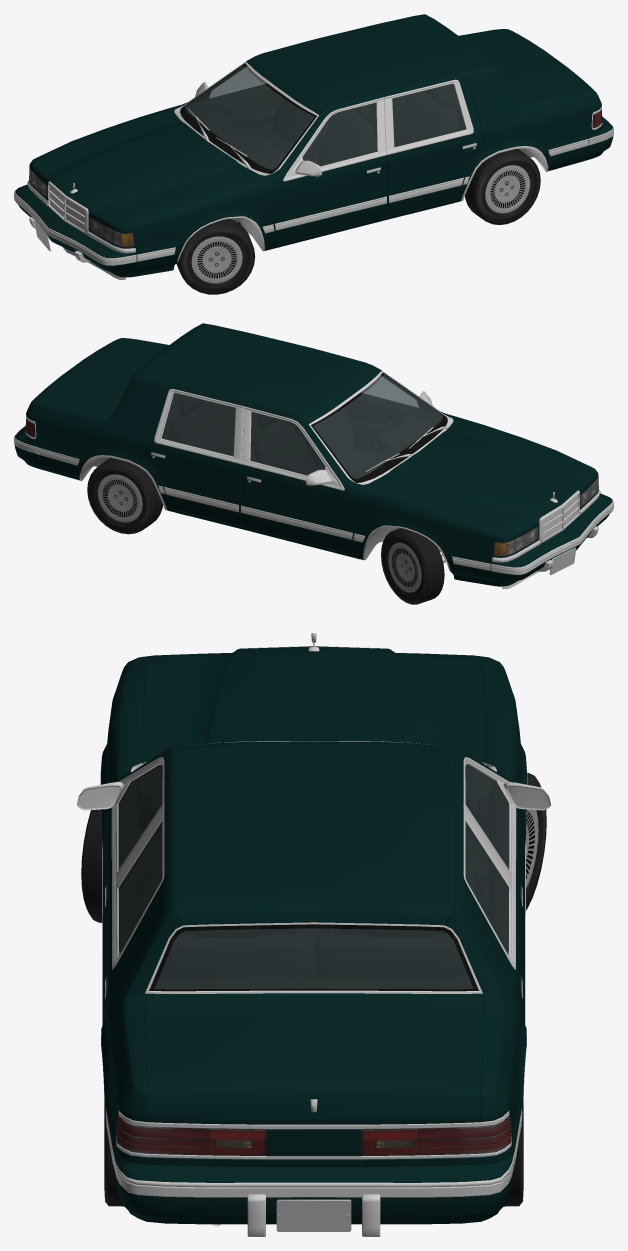
Rendered from Riverside88.fbx.
3 views of the same model, one above another, from view 1: azimuth 30°, elevation 25°; view 2: azimuth 150°, elevation 25°; view 3: azimuth 270°, elevation 25° (orthographic). The views are drawn at different scales.
Parts seen in each view (by area): view 1: Body, Hood, Windshield, Fenders_front, Door_FL, Seats, Door_RL, Trunk_door, Wheel_FL, Wheel_RL, Doorcard_FR, Door_Glass_RL (+17 smaller); view 2: Body, Hood, Windshield, Seats, Fenders_front, Door_FR, Door_RR, Trunk_door, Wheel_RR, Wheel_FR, Door_Glass_RR, Door_Glass_FR (+18 smaller); view 3: Body, Trunk_door, Hood, Rear_window, Seats, Bumper_rear, Bumper_rear_inner, Brakelights_glass, Fenders_front, Interior, Body_trim, Door_Glass_RL (+23 smaller).
Boxes of the visible parts, left/top/right/bottom form: Body: left=246, top=14, right=602, bottom=248; Hood: left=44, top=112, right=259, bottom=219; Windshield: left=180, top=63, right=316, bottom=173; Fenders_front: left=41, top=106, right=274, bottom=276; Door_FL: left=271, top=92, right=387, bottom=245; Seats: left=265, top=87, right=458, bottom=163; Door_RL: left=383, top=72, right=484, bottom=217; Trunk_door: left=462, top=30, right=595, bottom=105; Wheel_FL: left=176, top=218, right=255, bottom=294; Wheel_RL: left=465, top=149, right=540, bottom=224; Doorcard_FR: left=180, top=63, right=283, bottom=141; Door_Glass_RL: left=392, top=84, right=465, bottom=146; Body: left=25, top=323, right=381, bottom=557; Hood: left=368, top=421, right=583, bottom=528; Windshield: left=311, top=372, right=447, bottom=482; Seats: left=169, top=396, right=381, bottom=476; Fenders_front: left=353, top=415, right=586, bottom=586; Door_FR: left=240, top=401, right=356, bottom=554; Door_RR: left=143, top=381, right=244, bottom=526; Trunk_door: left=32, top=339, right=165, bottom=414; Wheel_RR: left=87, top=458, right=162, bottom=534; Wheel_FR: left=381, top=528, right=444, bottom=604; Door_Glass_RR: left=162, top=393, right=235, bottom=456; Door_Glass_FR: left=250, top=412, right=325, bottom=475; Body: left=101, top=741, right=526, bottom=1168; Trunk_door: left=144, top=993, right=483, bottom=1124; Hood: left=142, top=653, right=485, bottom=762; Rear_window: left=149, top=924, right=478, bottom=991; Seats: left=155, top=871, right=472, bottom=977; Bumper_rear: left=113, top=1145, right=514, bottom=1224; Bumper_rear_inner: left=112, top=1151, right=515, bottom=1236; Brakelights_glass: left=116, top=1115, right=511, bottom=1156; Fenders_front: left=101, top=661, right=526, bottom=848; Interior: left=125, top=765, right=502, bottom=991; Body_trim: left=116, top=741, right=511, bottom=1159; Door_Glass_RL: left=118, top=821, right=162, bottom=954.
Size of the model in its own units: 193 by 75.09 by 52.22.
